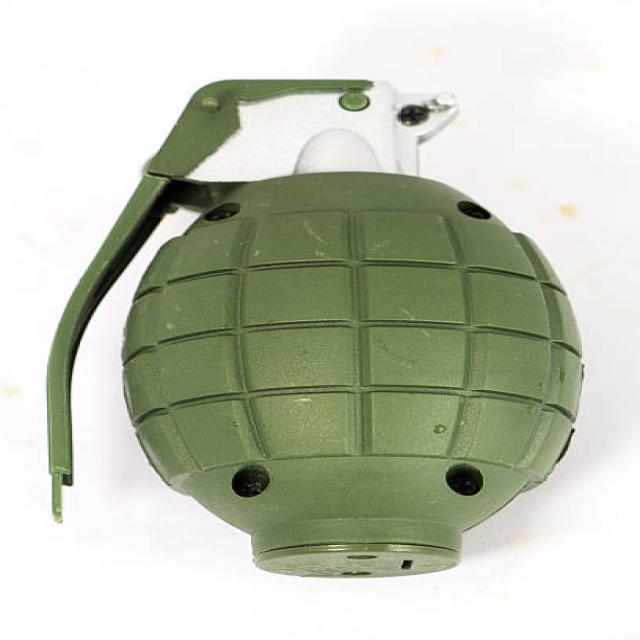grenade: (27, 57, 590, 591)
